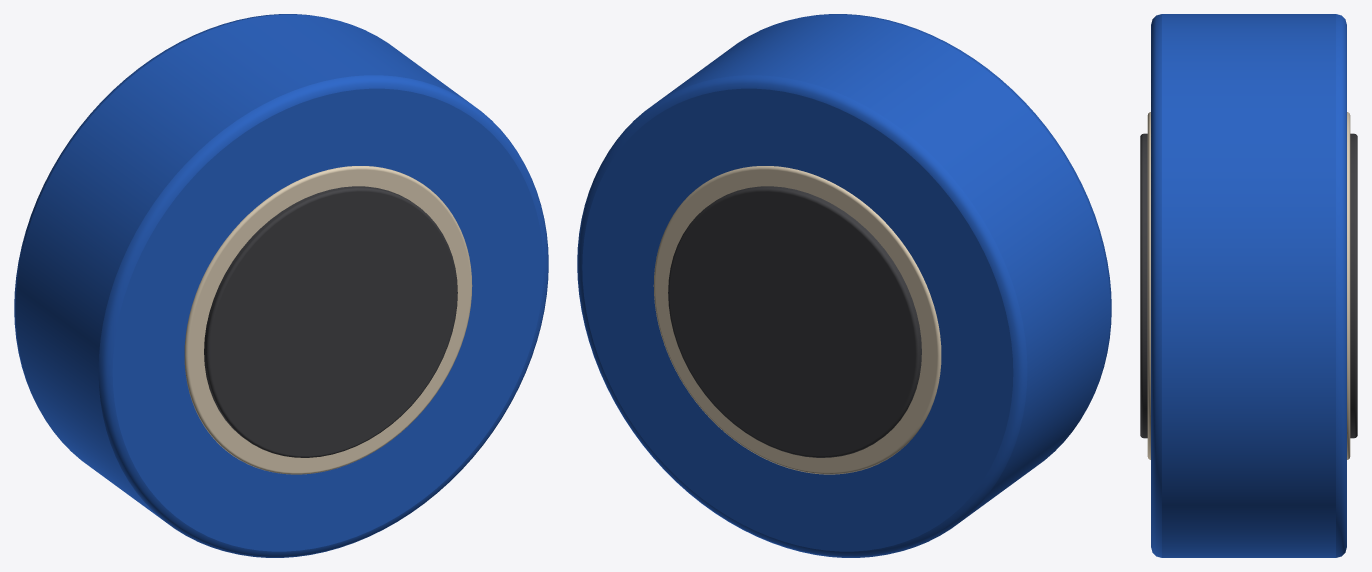
Rendered from tape.glb.
3 renders of one model, left to right at view 1: azimuth 30°, elevation 25°; view 2: azimuth 150°, elevation 25°; view 3: azimuth 270°, elevation 25°, orthographic. The views are drawn at different scales.
Visible parts, largest first — view 1: body; view 2: body; view 3: body.
Boxes of the visible parts, x1,y1,x2,y2 form: body: [14, 14, 548, 557]; body: [577, 14, 1111, 557]; body: [1140, 14, 1357, 557].
Bounding box in the file's own units: 0.05 × 0.05 × 0.02.
